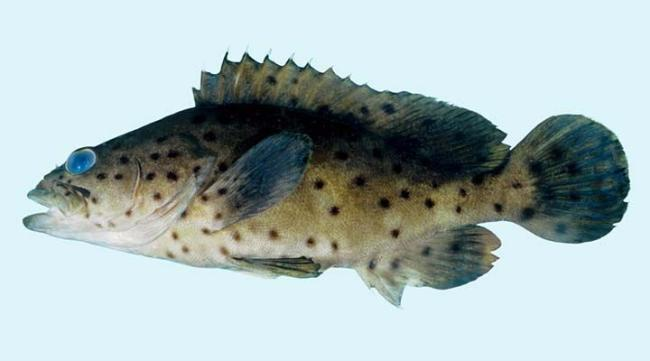fish: (23, 43, 630, 311)
